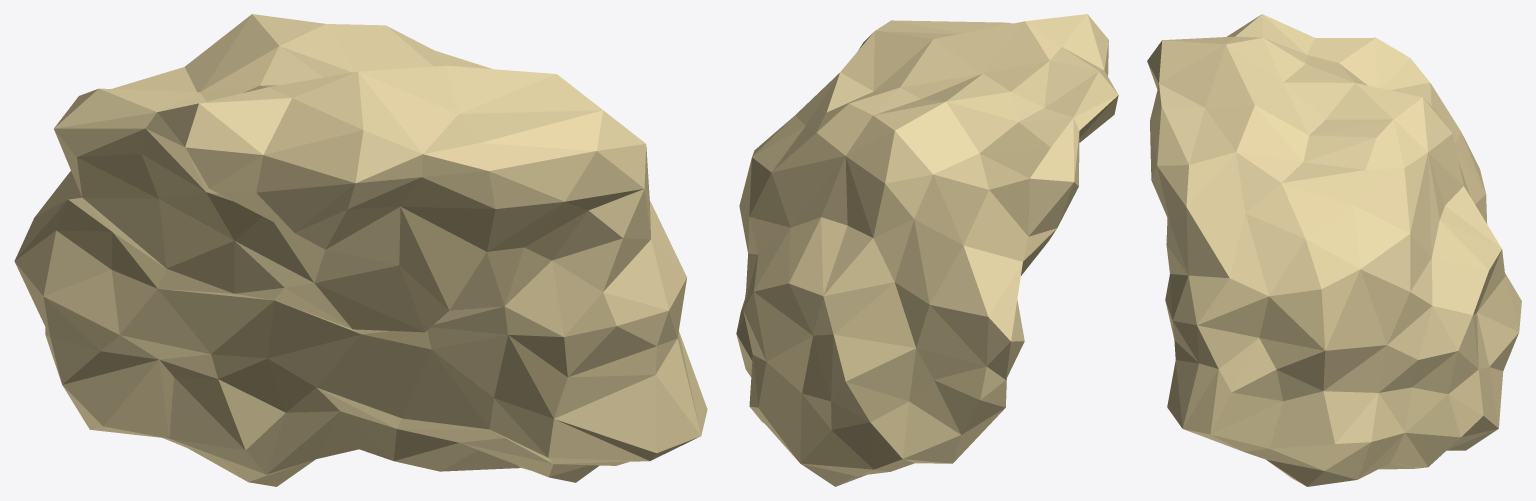
Rendered from Asteroid (56).fbx.
3 views of the same model, side by side, from view 1: azimuth 30°, elevation 25°; view 2: azimuth 150°, elevation 25°; view 3: azimuth 270°, elevation 25° (orthographic). The views are drawn at different scales.
Parts seen in each view (by area): view 1: Asteroid211; view 2: Asteroid211; view 3: Asteroid211.
Part boxes in pixels (x1,y1,x2,y2): Asteroid211: [14, 14, 707, 486]; Asteroid211: [736, 14, 1118, 486]; Asteroid211: [1147, 14, 1521, 486].
Size of the model in its own units: 333 by 337 by 305.
